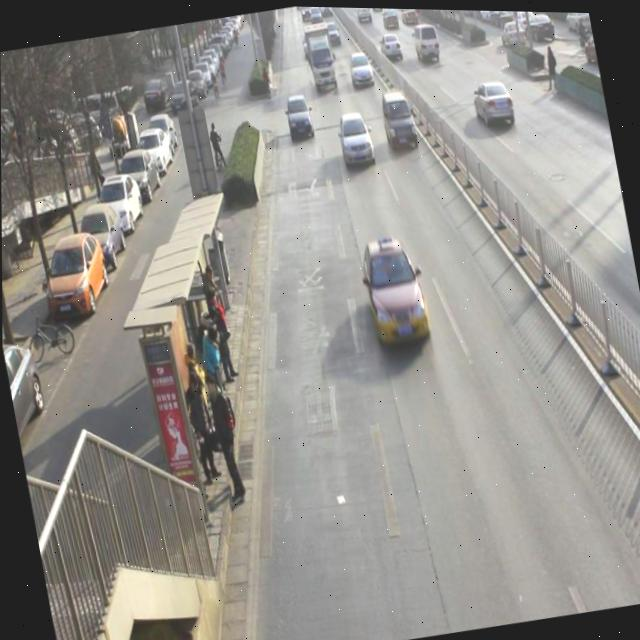bus: (303, 23, 341, 93)
car: (355, 230, 439, 357), (377, 87, 424, 156), (470, 76, 517, 131), (336, 109, 376, 164), (282, 92, 316, 140), (347, 50, 377, 88), (377, 29, 405, 61), (322, 16, 343, 46)
truck: (410, 20, 442, 64)
